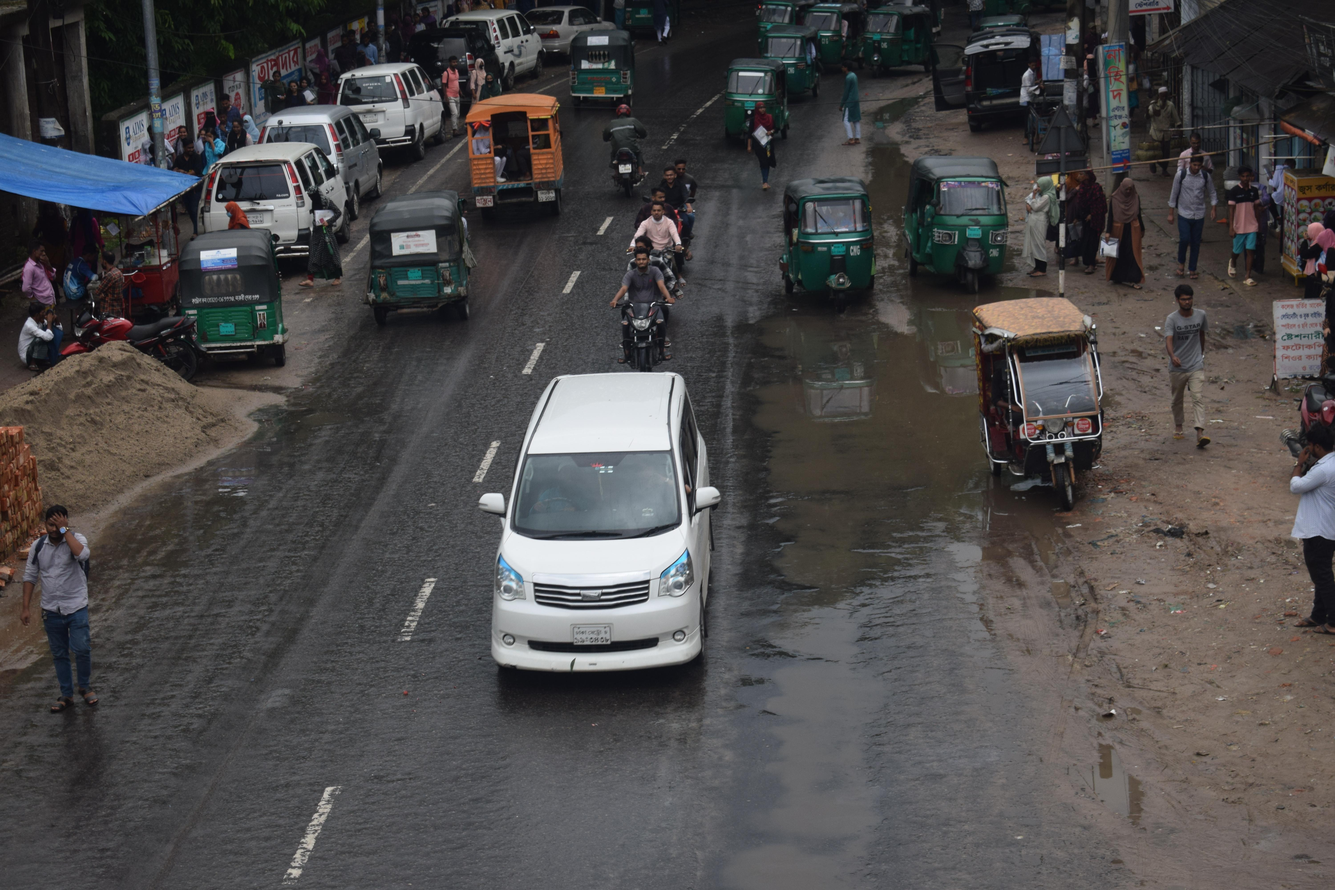Bike: (593, 217, 695, 373), (587, 81, 661, 199)
Car: (445, 341, 779, 720), (939, 279, 1140, 545), (156, 139, 355, 277), (442, 74, 594, 229), (243, 106, 402, 214), (326, 53, 477, 164), (423, 0, 555, 85)
